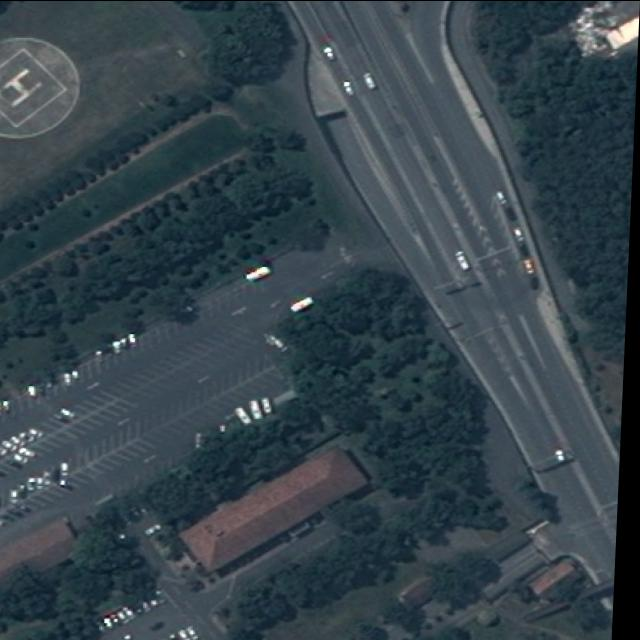Batiment: (186, 448, 372, 570), (0, 518, 80, 578), (530, 555, 599, 602), (405, 578, 438, 605)
